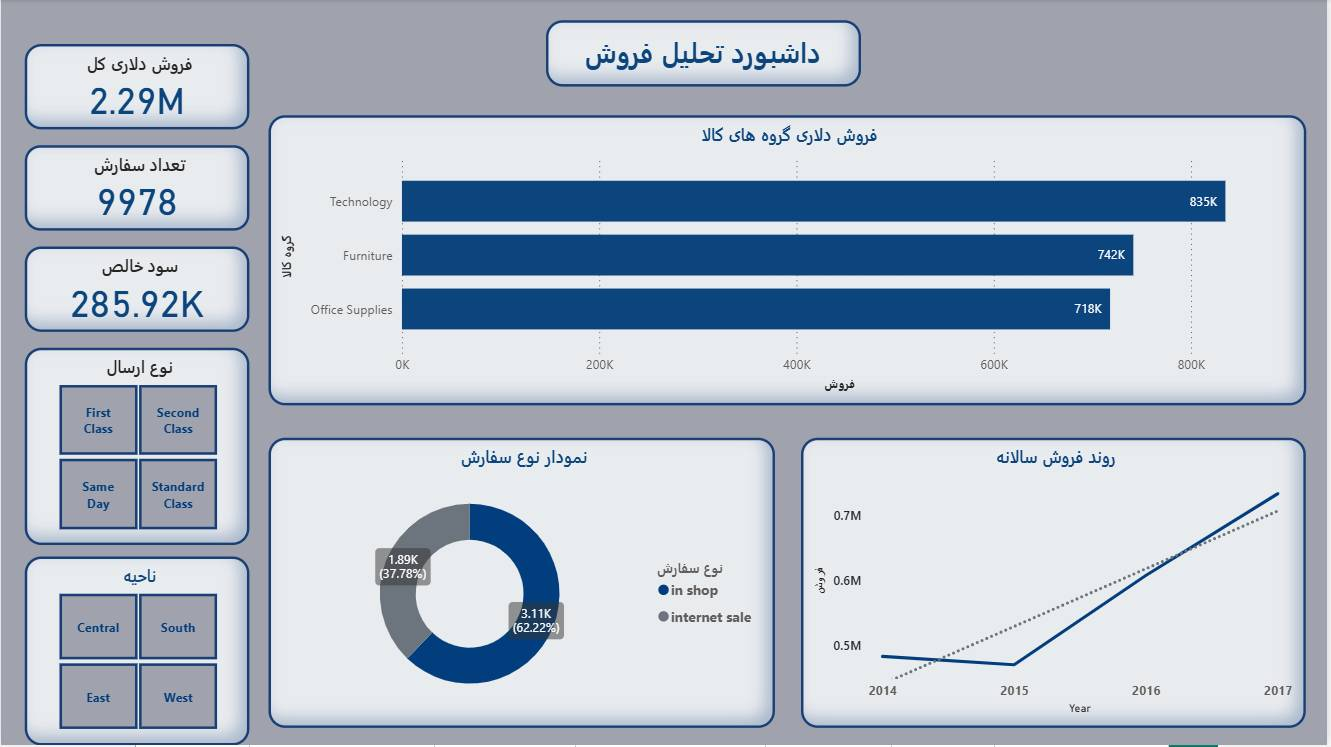

This screenshot's page, from the dashboard's own definition file:
{"tool":"powerbi","page":{"name":"تحلیل کلی","canvas":[1280,720],"ordinal":0},"visuals":[{"type":"barChart","title":"فروش دلاری گروه های کالا","fields":{"Category":["All Sales.گروه کالا"],"Y":["Sum(All Sales.فروش دلاری)"]},"box":[258.2,112.2,1001.3,279.9],"z":0},{"type":"donutChart","title":"نمودار نوع سفارش","fields":{"Category":["Order Type.نوع سفارش"],"Y":["CountNonNull(Order Type.نوع سفارش)"]},"box":[258.2,423.5,488.6,279.9],"z":1000},{"type":"lineChart","title":"روند فروش سالانه","fields":{"Category":["All Sales.تاریخ سفارش.Variation.Date Hierarchy.Year","All Sales.تاریخ سفارش.Variation.Date Hierarchy.Quarter"],"Y":["Sum(All Sales.فروش دلاری)"]},"box":[772.1,423.5,487.4,279.9],"z":2000},{"type":"slicer","title":"نوع ارسال","fields":{"Values":["All Sales.نوع ارسال"]},"box":[22.9,336.6,217.2,190.6],"z":3000},{"type":"textbox","box":[526,20.5,304,63.9],"z":4000},{"type":"card","title":"فروش دلاری کل","fields":{"Values":["Sum(All Sales.فروش دلاری)"]},"box":[22.9,43.4,217.2,82],"z":5000},{"type":"card","title":"تعداد سفارش ","fields":{"Values":["CountNonNull(All Sales.شماره سفارش)"]},"box":[22.9,141.2,217.2,82],"z":6000},{"type":"card","title":"سود خالص","fields":{"Values":["Sum(All Sales.سود)"]},"box":[22.9,238.9,217.2,82],"z":7000},{"type":"slicer","title":"ناحیه","fields":{"Values":["All Sales.ناحیه"]},"box":[22.9,538.1,217.2,182.2],"z":8000}]}

Visuals, with their boxes in screenshot pixels (x1, y1, x2, y2), scaled from the page's 1280x720 canvas onto the 1331x747 screenshot:
"فروش دلاری گروه های کالا" barChart: 268:116:1310:407
"نمودار نوع سفارش" donutChart: 268:439:777:730
"روند فروش سالانه" lineChart: 803:439:1310:730
"نوع ارسال" slicer: 24:349:250:547
textbox: 547:21:863:88
"فروش دلاری کل" card: 24:45:250:130
"تعداد سفارش " card: 24:146:250:232
"سود خالص" card: 24:248:250:333
"ناحیه" slicer: 24:558:250:746
